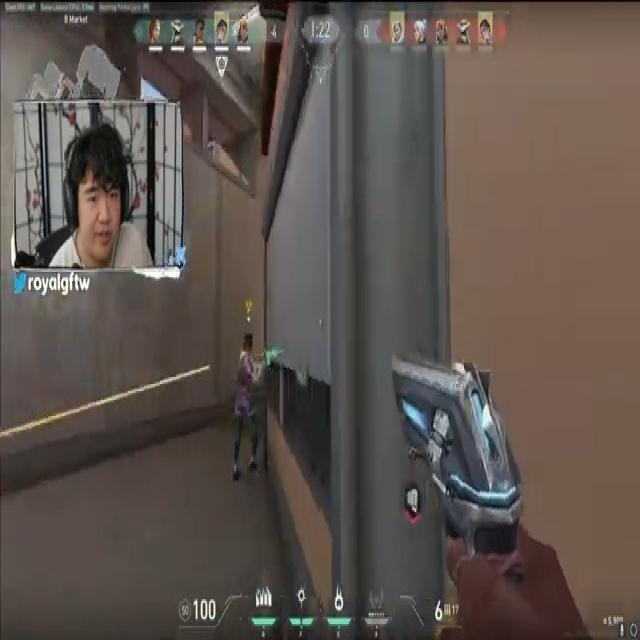ally: (222, 326, 271, 486)
